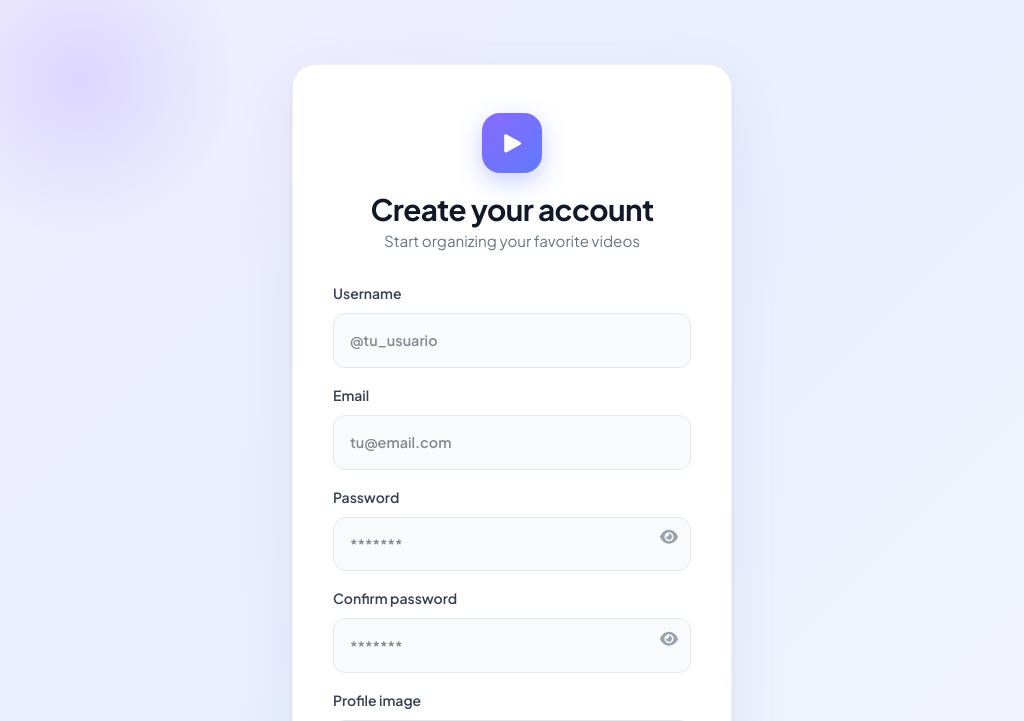
it: Register component › Username validation › Username must not contain spaces
Type "alex dev" into the field labelled "Username" at (512, 340), box x1=333 y1=313 x2=691 y2=368
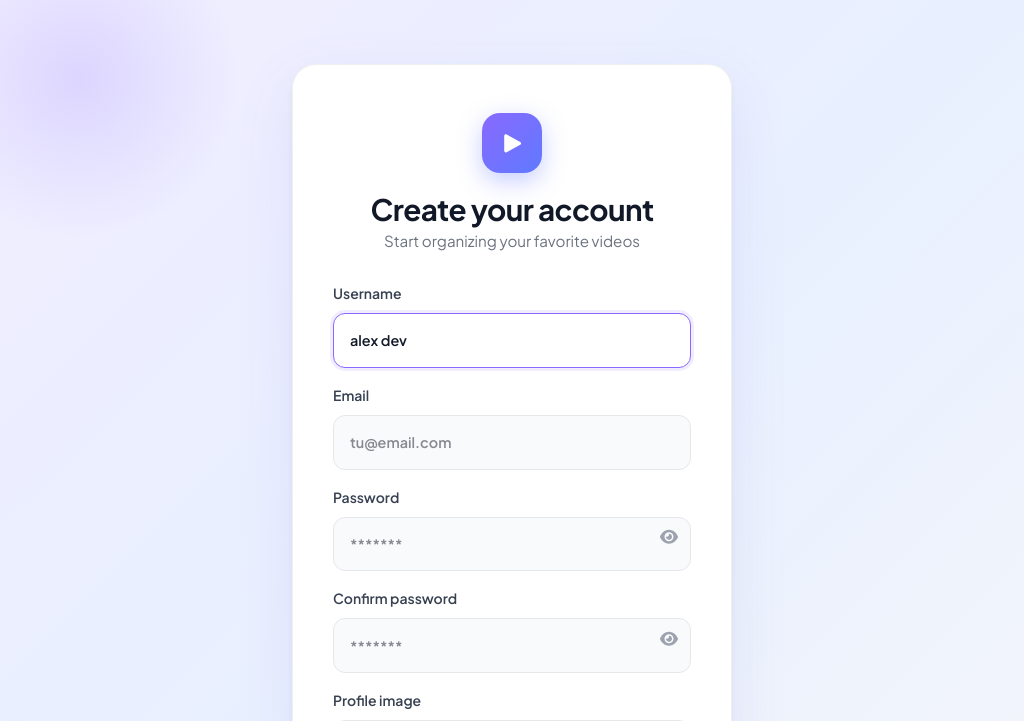
Leave the field labelled "Username", box x1=333 y1=313 x2=691 y2=368
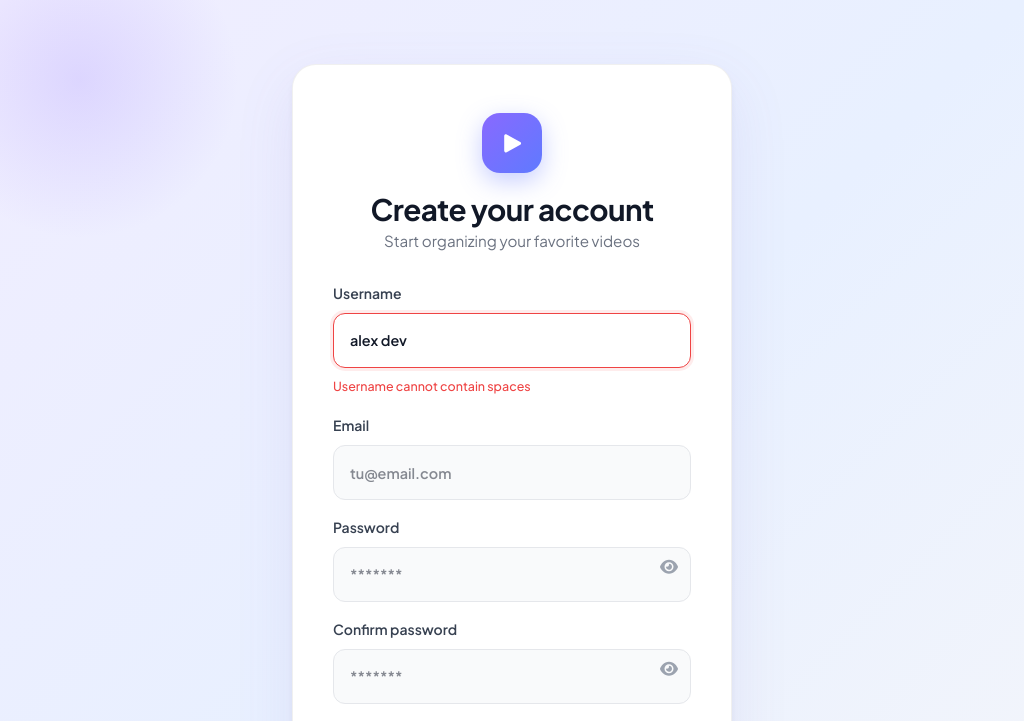
Result: the text "Username cannot contain spaces" is shown at x1=333 y1=378 x2=531 y2=394
